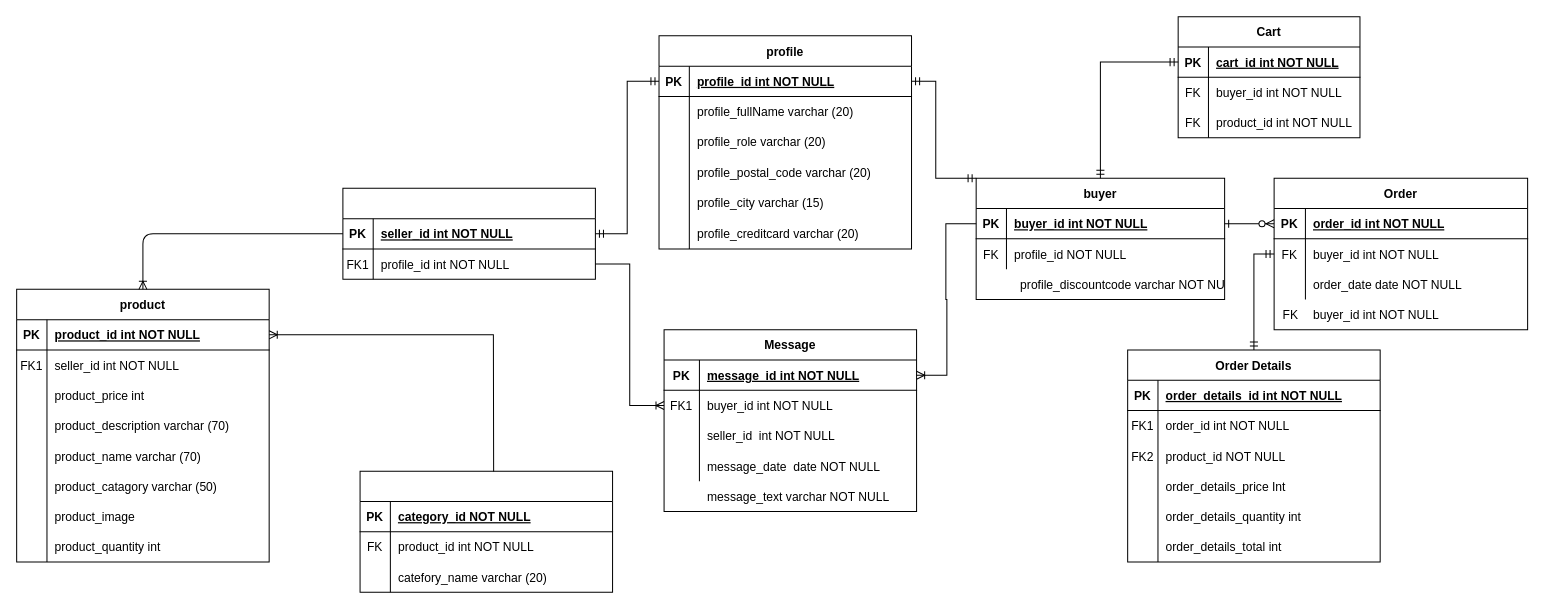
Some shapes in this 1544 by 609 pixel diagram are drawn without their labels. Each missing label, with the box of its shape:
Categories: (359, 470, 613, 592)
Sellers: (342, 187, 595, 279)
